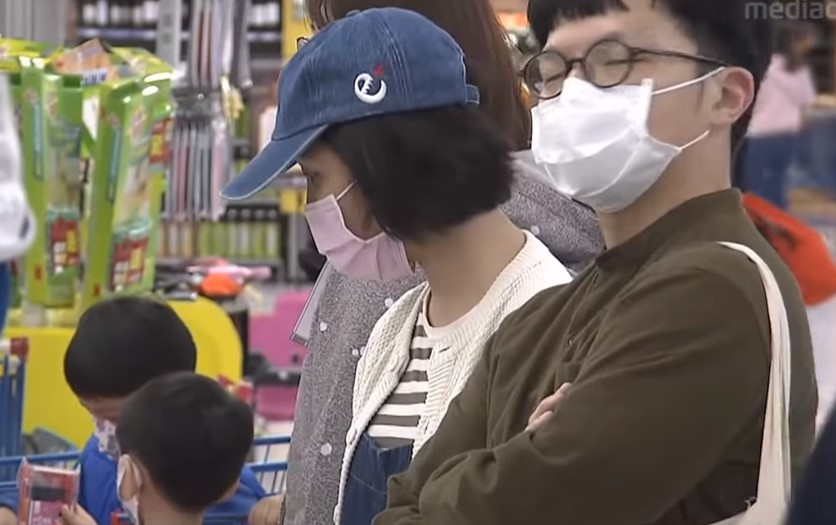face_with_mask: (259, 5, 526, 281), (528, 2, 774, 211), (60, 292, 196, 458), (107, 370, 249, 518)
